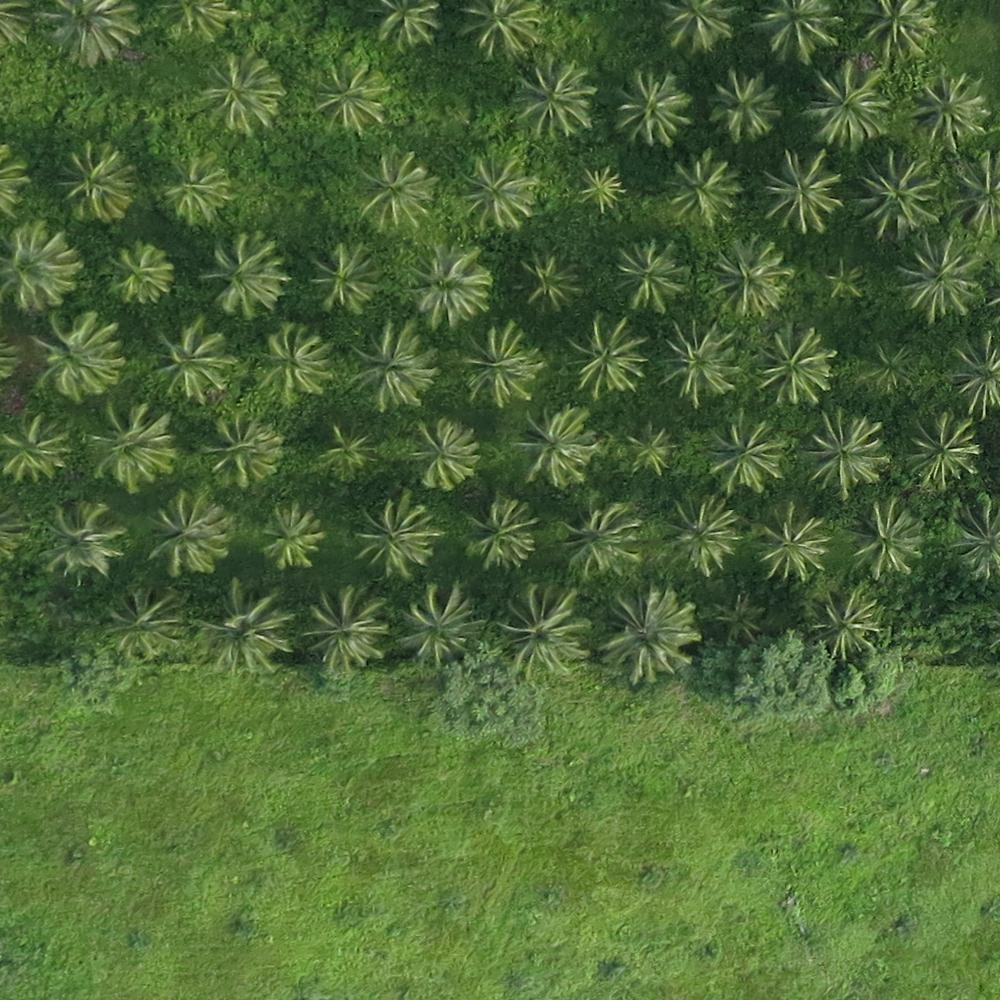Palm: (196, 582, 292, 680), (604, 585, 700, 682), (495, 582, 590, 678), (852, 146, 947, 233), (31, 313, 124, 400), (353, 491, 439, 580), (148, 316, 232, 404), (760, 146, 846, 231), (2, 221, 82, 312), (203, 231, 285, 317), (805, 62, 891, 144), (514, 56, 596, 142), (250, 323, 333, 407), (398, 583, 480, 668), (145, 491, 227, 576), (89, 406, 173, 488), (901, 233, 985, 315), (353, 145, 435, 229), (351, 323, 432, 408), (306, 591, 388, 674), (455, 147, 536, 231), (407, 244, 490, 325), (614, 65, 694, 149), (704, 415, 791, 492), (556, 498, 641, 576), (847, 499, 928, 580), (198, 54, 279, 134), (38, 501, 120, 580), (660, 493, 739, 575), (565, 313, 642, 397), (663, 316, 738, 402), (36, 1, 136, 65), (516, 407, 595, 486), (808, 410, 888, 488), (460, 326, 540, 404), (713, 235, 791, 315), (201, 413, 283, 488), (752, 330, 834, 405), (665, 152, 742, 229), (608, 241, 690, 313), (462, 494, 538, 571), (58, 140, 132, 218), (105, 586, 184, 659), (911, 69, 987, 144), (752, 1, 845, 59), (160, 148, 230, 225), (905, 413, 982, 482), (711, 67, 782, 140), (455, 2, 544, 60), (755, 505, 825, 578), (307, 243, 377, 313), (317, 58, 386, 129), (408, 419, 477, 489), (814, 589, 882, 658), (2, 415, 72, 479), (103, 241, 171, 306), (858, 1, 934, 58), (260, 502, 321, 567), (658, 1, 735, 52), (518, 249, 581, 309), (366, 1, 440, 51), (857, 339, 919, 395), (621, 418, 679, 475), (710, 591, 766, 647), (574, 164, 635, 214), (319, 422, 373, 473), (823, 256, 866, 302)
